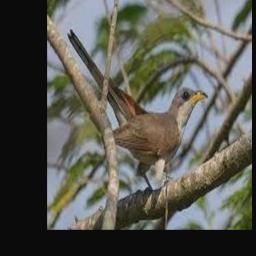Cuckoo: (68, 29, 209, 193)
